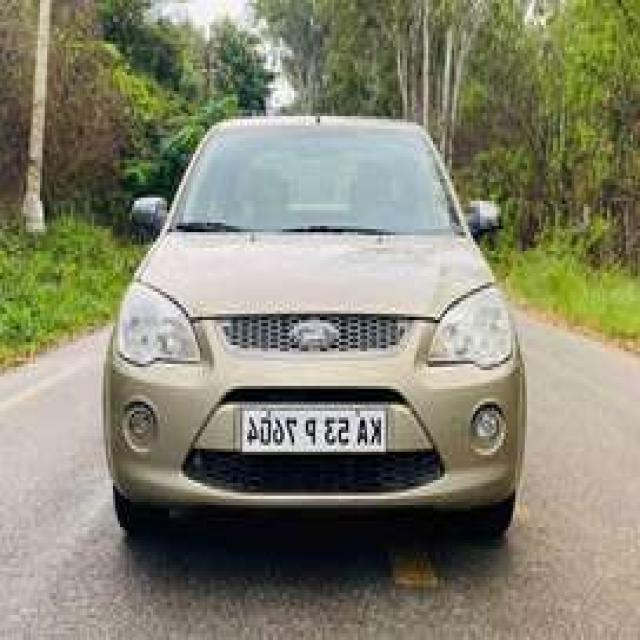license_plate: (234, 403, 393, 463)
